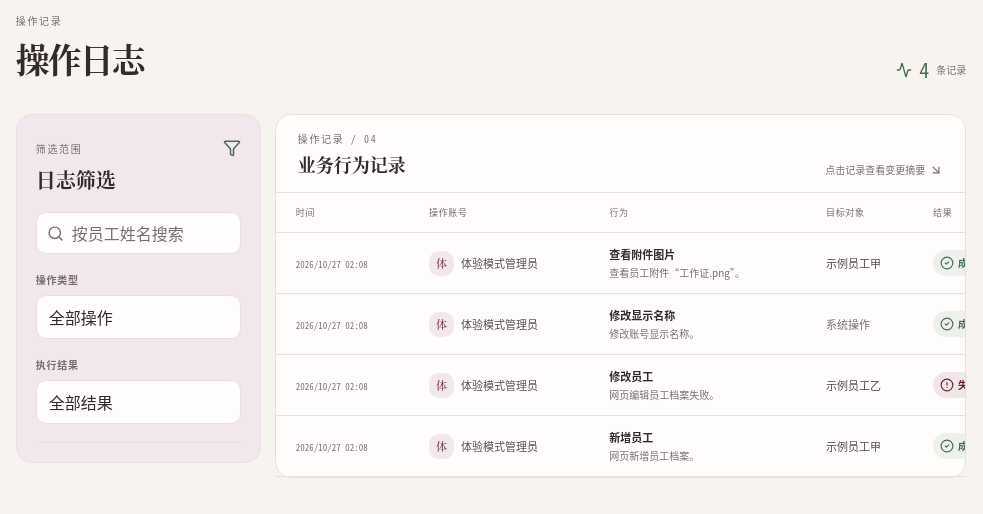
Test case: AuditPage filters › shows only display-name update logs when that action is selected
Select "修改显示名称" in the dropdown named "按操作类型筛选日志" at (138, 317), box [36,295,241,339]
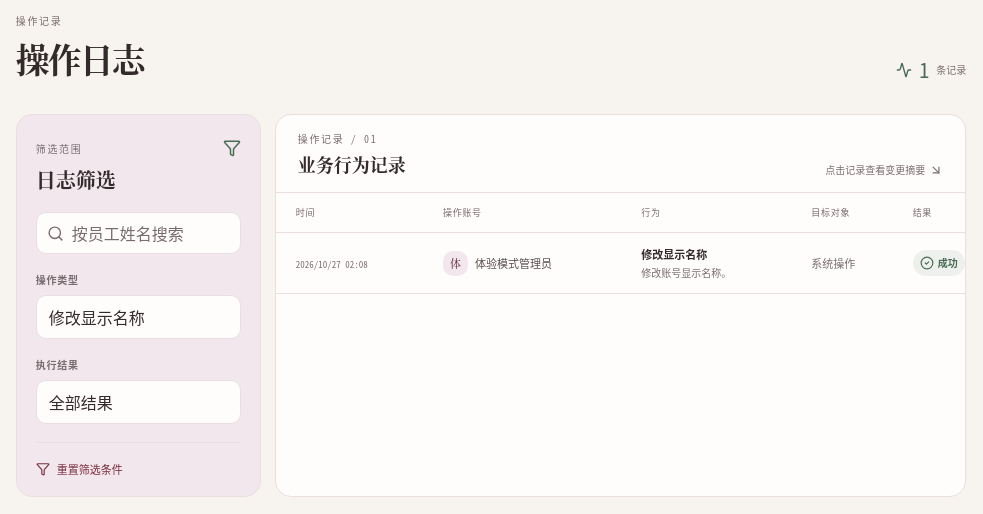
Expected: the row "2026/10/27 02:08 体 体验模式管理员 修改显示名称 修改账号显示名称。 系统操作 成功" is shown, [276,233,965,294]
Result: the button "修改员工" no longer shows "修改员工"
